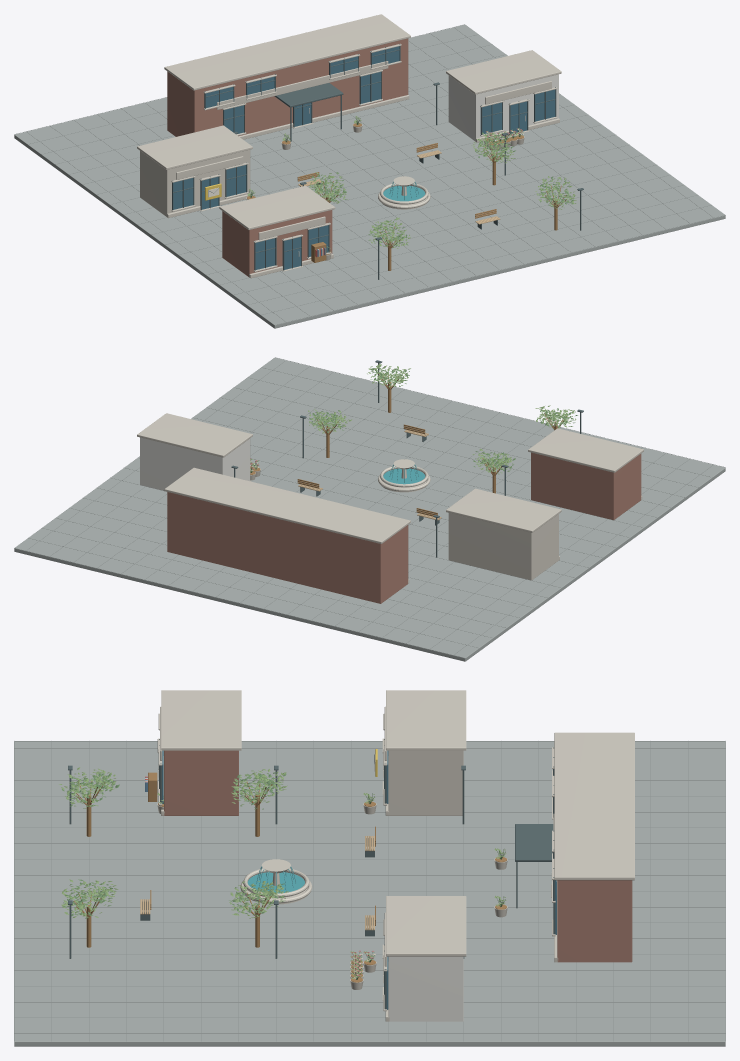
File: square.glb
3 renders of one model, top to bottom at view 1: azimuth 30°, elevation 25°; view 2: azimuth 150°, elevation 25°; view 3: azimuth 270°, elevation 25°, orthographic. The views are drawn at different scales.
Parts seen in each view (by area): view 1: paving, stone, brick, glass, grout, metal, white, leaf, wood, green; view 2: paving, stone, brick, grout, white, leaf, green, wood, metal, water; view 3: paving, stone, grout, brick, white, leaf, metal, green, wood, water.
Part boxes in pixels (x1,y1,x2,y2): paving: (14,24,725,328); stone: (137,14,561,278); brick: (167,38,408,276); glass: (172,46,555,269); grout: (14,24,725,324); metal: (172,44,583,279); white: (448,74,558,141); leaf: (247,116,576,251); wood: (247,123,566,270); green: (249,118,574,249); paving: (14,357,725,661); stone: (137,413,643,583); brick: (167,452,641,603); grout: (14,357,725,657); white: (140,437,250,490); leaf: (250,363,576,474); green: (250,365,577,472); wood: (250,373,566,516); metal: (231,360,583,557); water: (383,468,425,484); paving: (14,741,725,1046); stone: (157,690,634,1021); grout: (14,741,725,1041); brick: (164,750,632,962); white: (388,956,463,1021); leaf: (59,767,506,979); metal: (68,739,555,1009); green: (62,772,505,979); wood: (73,772,506,982); water: (247,872,304,893).
Bounding box in the file's own units: 38 × 5.39 × 38.02.
